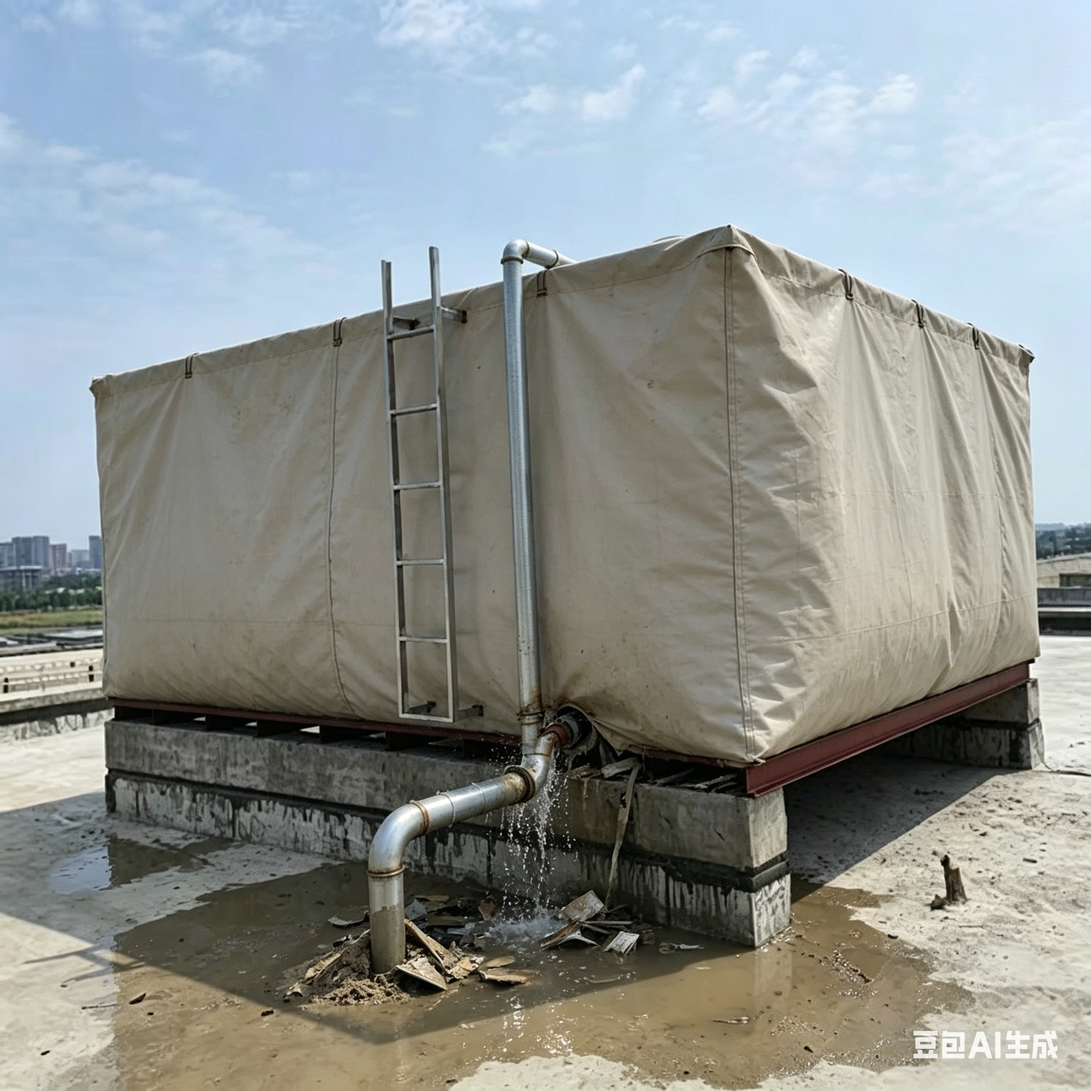Leakage: (132, 929, 929, 1085), (493, 728, 594, 919), (211, 872, 473, 917), (38, 834, 168, 894)
